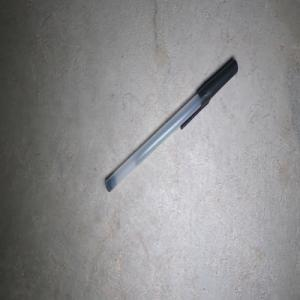Pen: (105, 59, 238, 192)
